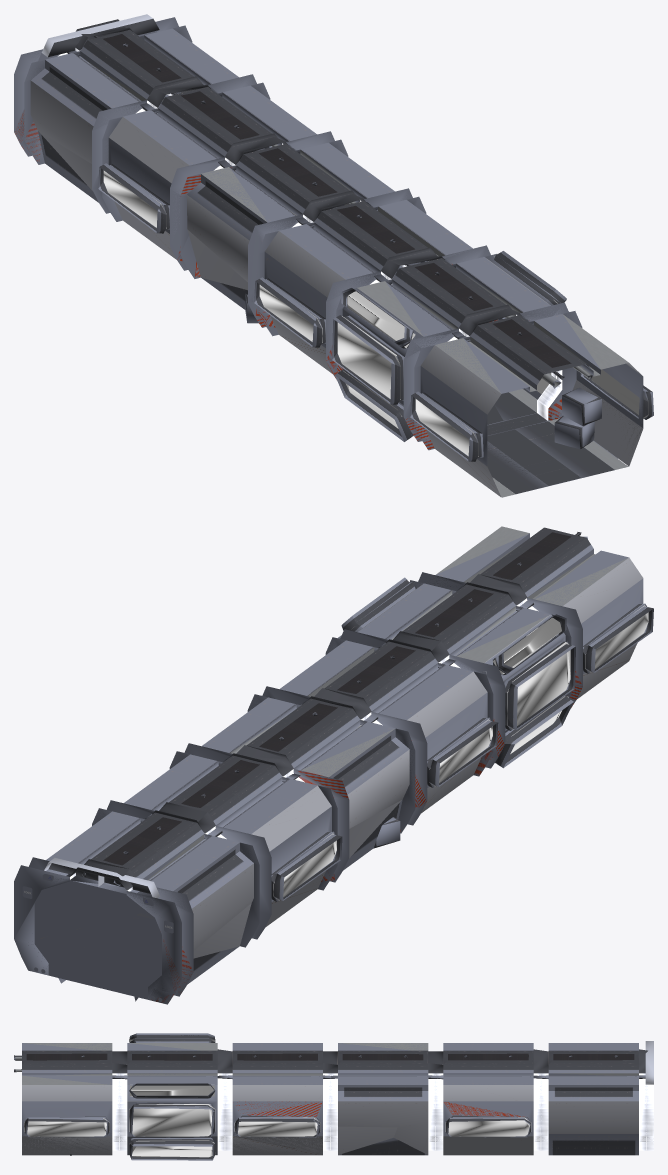
The model's file is join 1.fbx.
3 views of the same model, one above another, from view 1: azimuth 30°, elevation 25°; view 2: azimuth 150°, elevation 25°; view 3: azimuth 270°, elevation 25° (orthographic). The views are drawn at different scales.
Visible parts, largest first — view 1: š; view 2: š; view 3: š.
Boxes of the visible parts, x1=… form: š: x1=14, y1=14, x2=653, y2=497; š: x1=14, y1=526, x2=653, y2=1004; š: x1=14, y1=1033, x2=653, y2=1160.
Bounding box in the file's own units: 834 × 521 × 3708.
